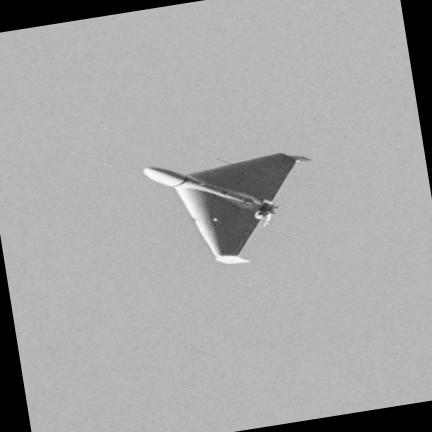Shahed: (144, 152, 309, 263)
